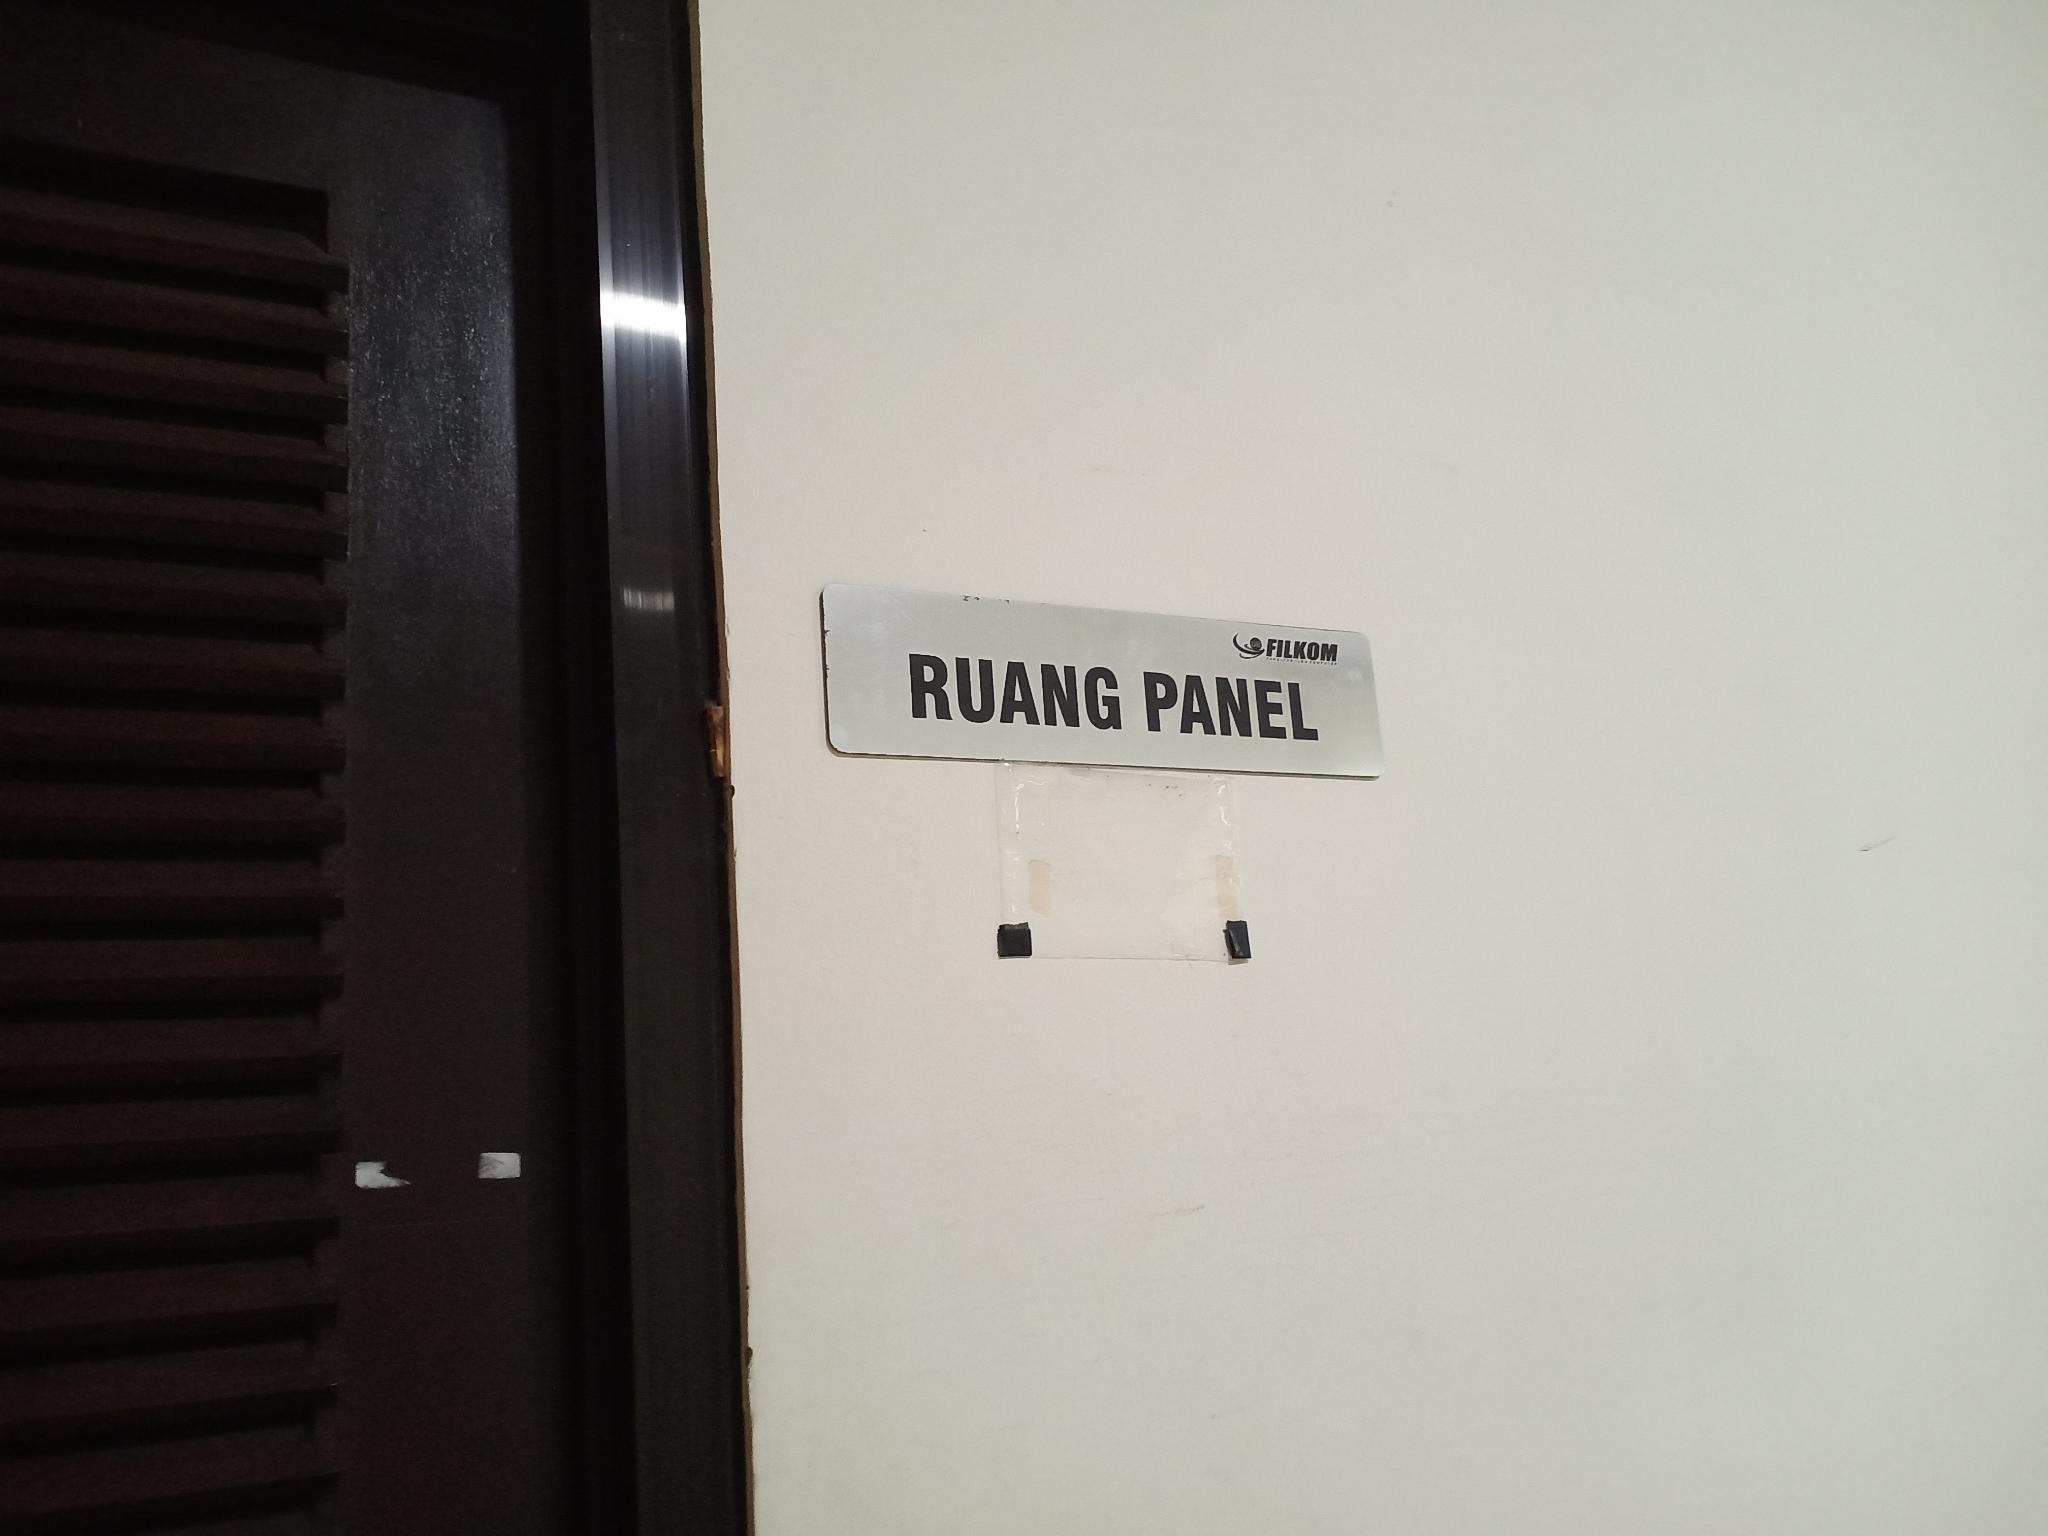plate: (819, 579, 1387, 781)
